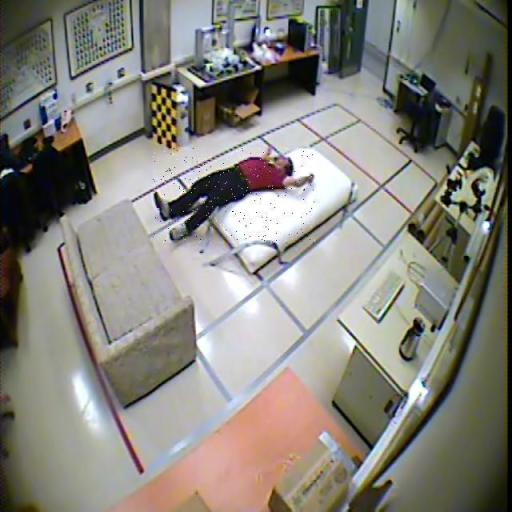Fall: (153, 147, 315, 243)
